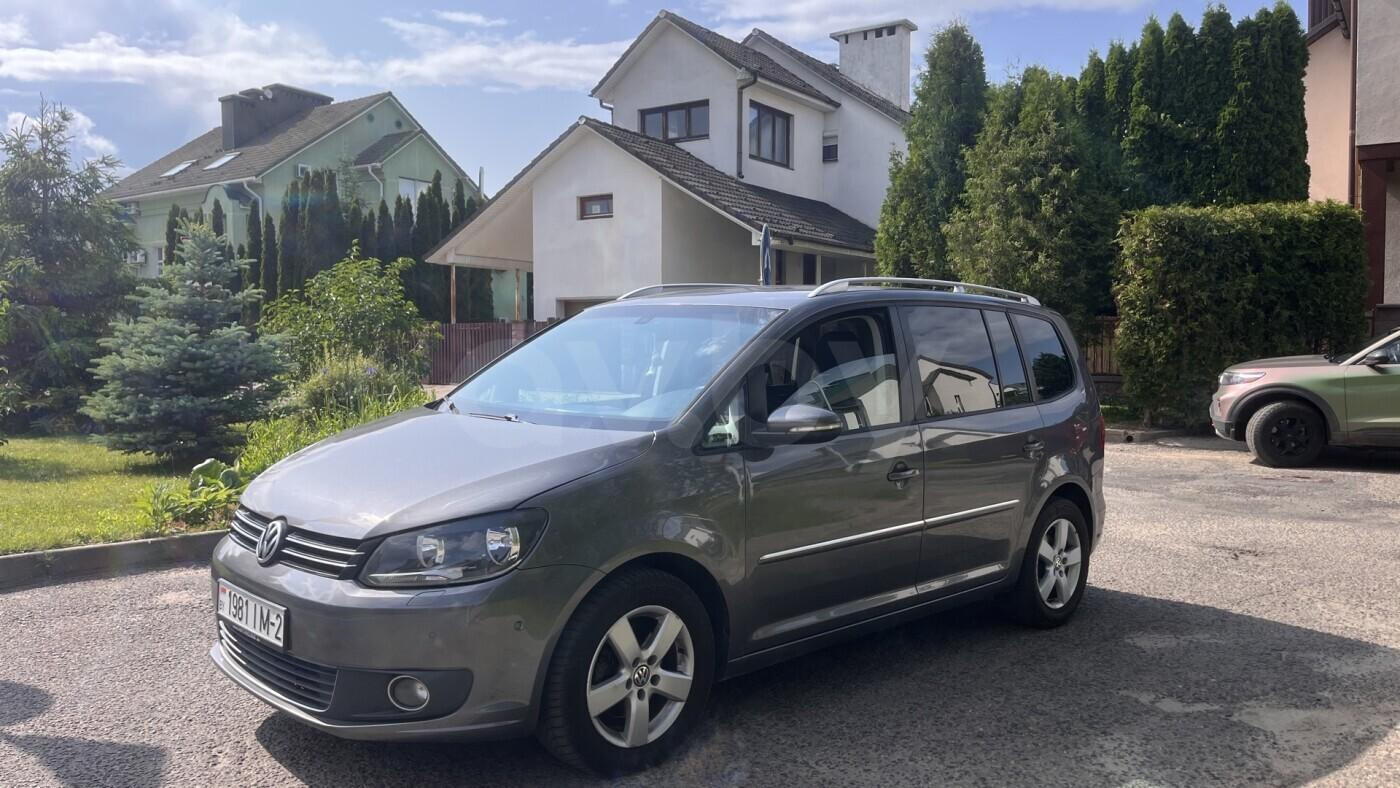Touran_2010-2015: (203, 277, 1108, 758)
